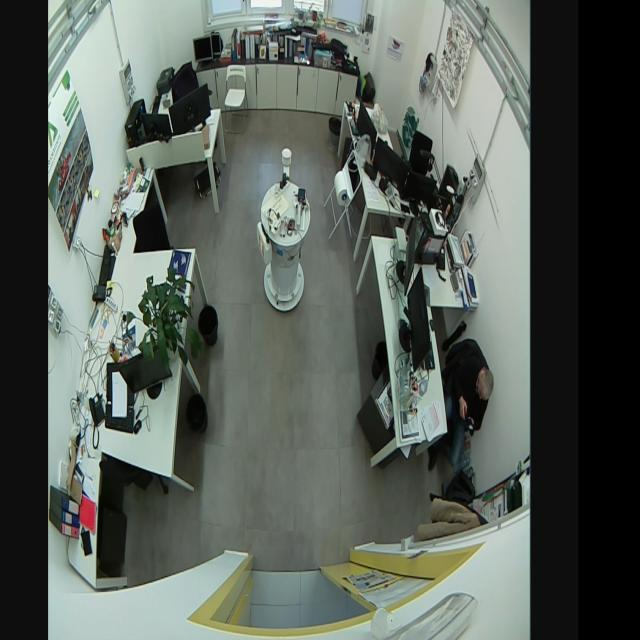Persona: (448, 353, 495, 470)
